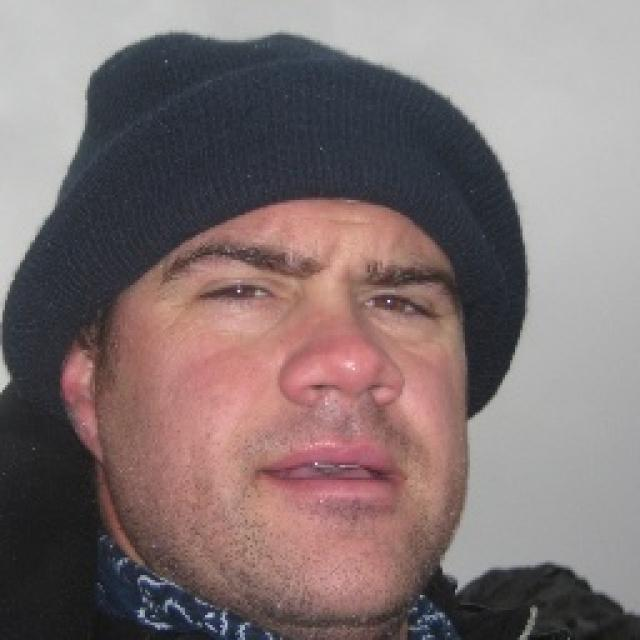earlobe: (73, 402, 106, 458)
eye: (191, 275, 284, 312), (364, 289, 443, 328)
nose: (284, 386, 400, 430)
wholeear: (60, 303, 106, 459)
